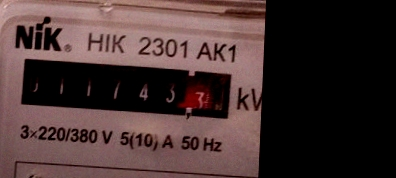0: (26, 67, 41, 94)
1: (53, 68, 68, 97), (81, 70, 95, 99)
3: (161, 78, 176, 105), (190, 89, 206, 111)
4: (135, 78, 150, 103)
7: (108, 75, 123, 100)
screen: (12, 52, 240, 126)
